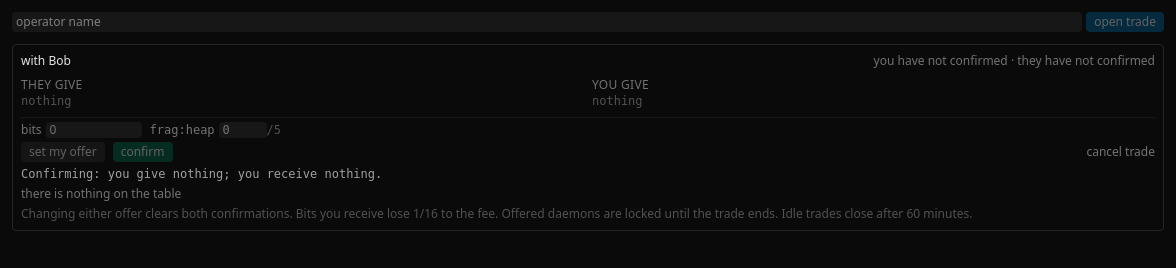
Test case: TradesPanel: the table › a failed offer shows inline (402 balance) and keeps the draft
Replace the text in the number field with test id "trade-bits" with "64" at [94, 130], box [46,122,142,138]
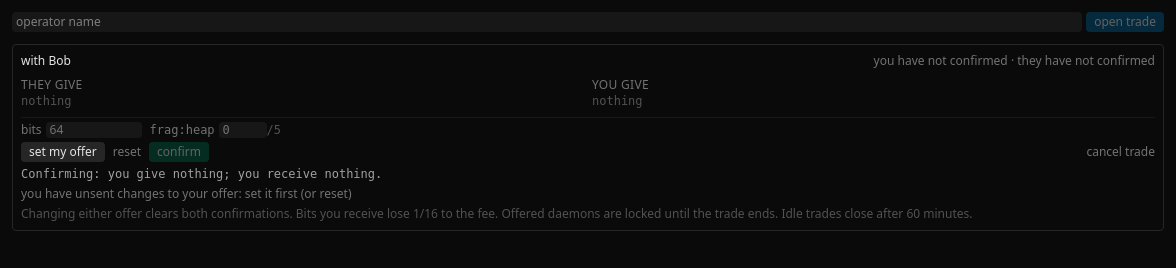
Click the button with test id "trade-offer" at [63, 152], box [21,142,105,162]
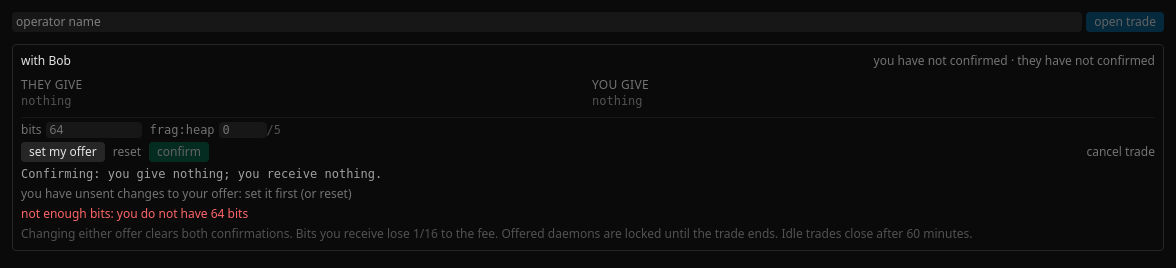
expect the text with test id "trade-error" reads "not enough bits: you do not have 64 bits": met, box [21,205,248,222]
